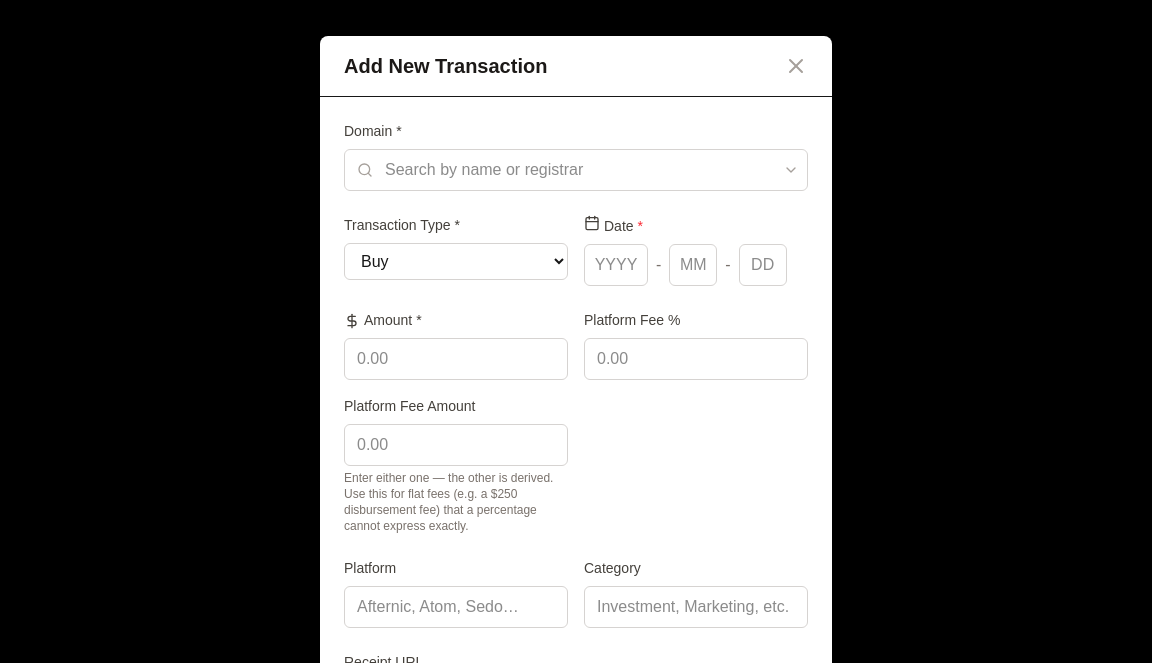
Test: TransactionForm › refuses to submit without a date instead of sending an empty one
Focus the field with placeholder "Search by name or registrar" at (578, 170), box [373,150,783,190]
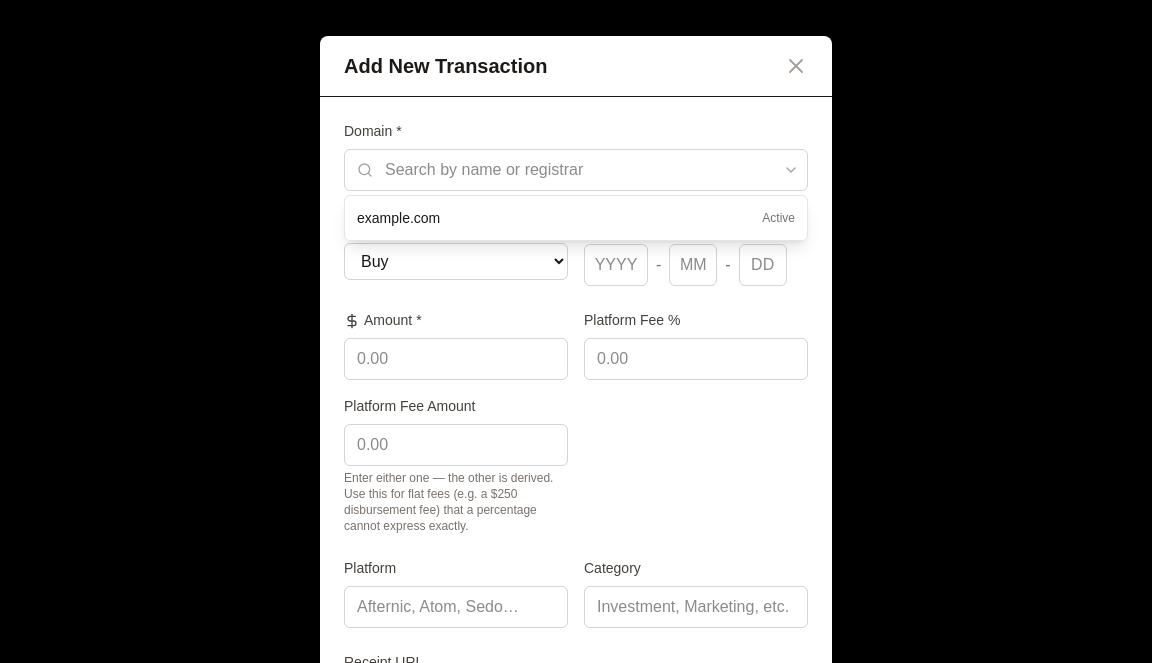
Click the option "example.com Active" at (399, 218), box [357,210,795,226]
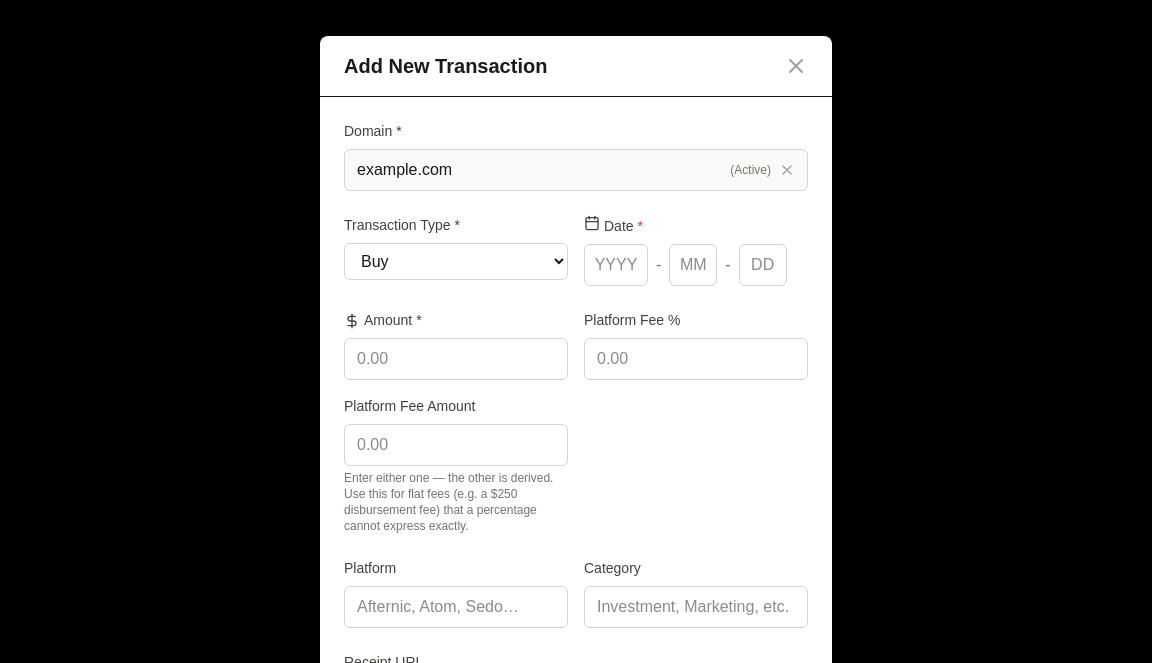
Type "25" into the field with id "transaction-form-amount" at (456, 359), box [344,338,568,380]
(page scrolled)
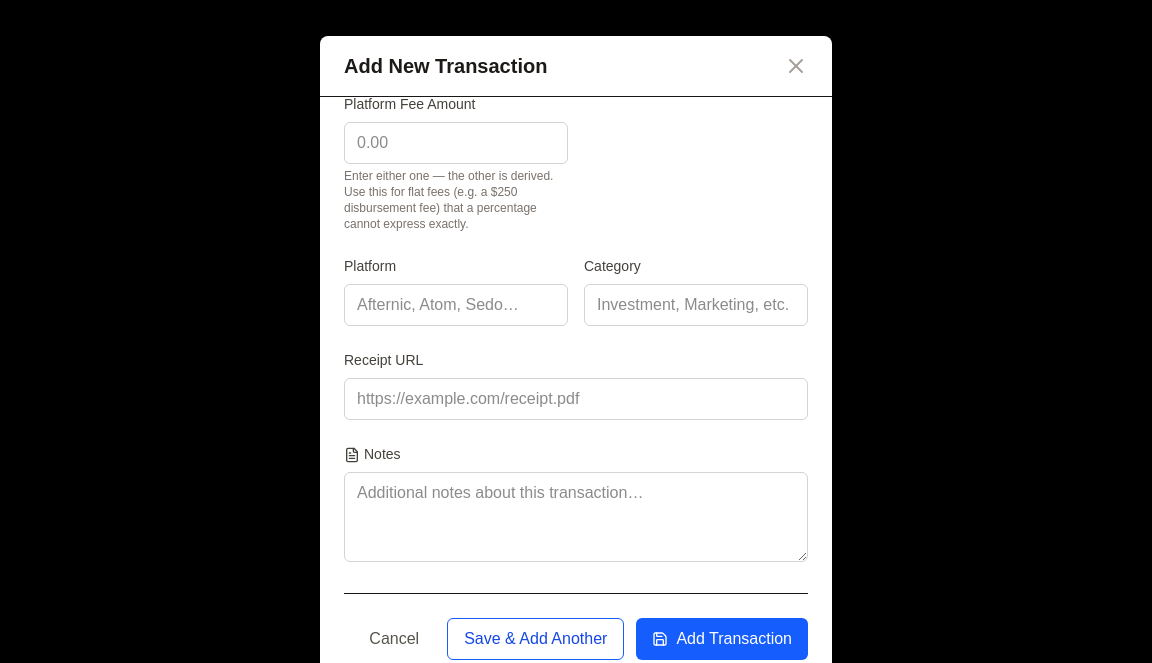
Click the button "Save & Add Another" at (536, 639), box [447,618,624,660]
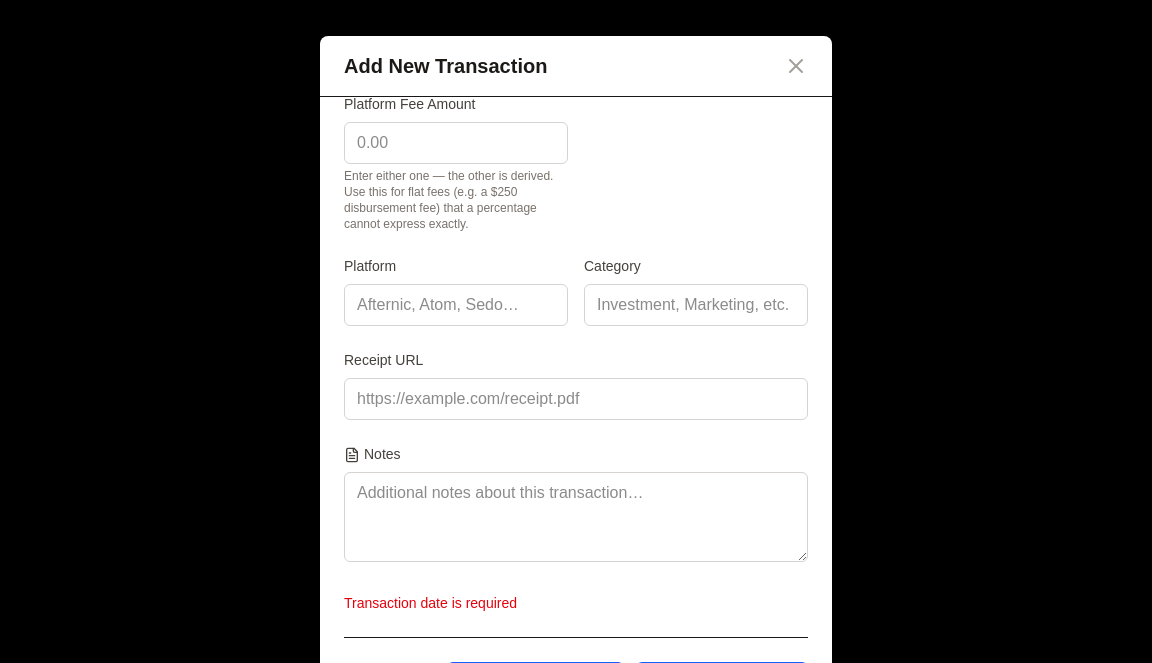
Check: the message "Transaction date is required" is shown, box [344,595,517,611]
